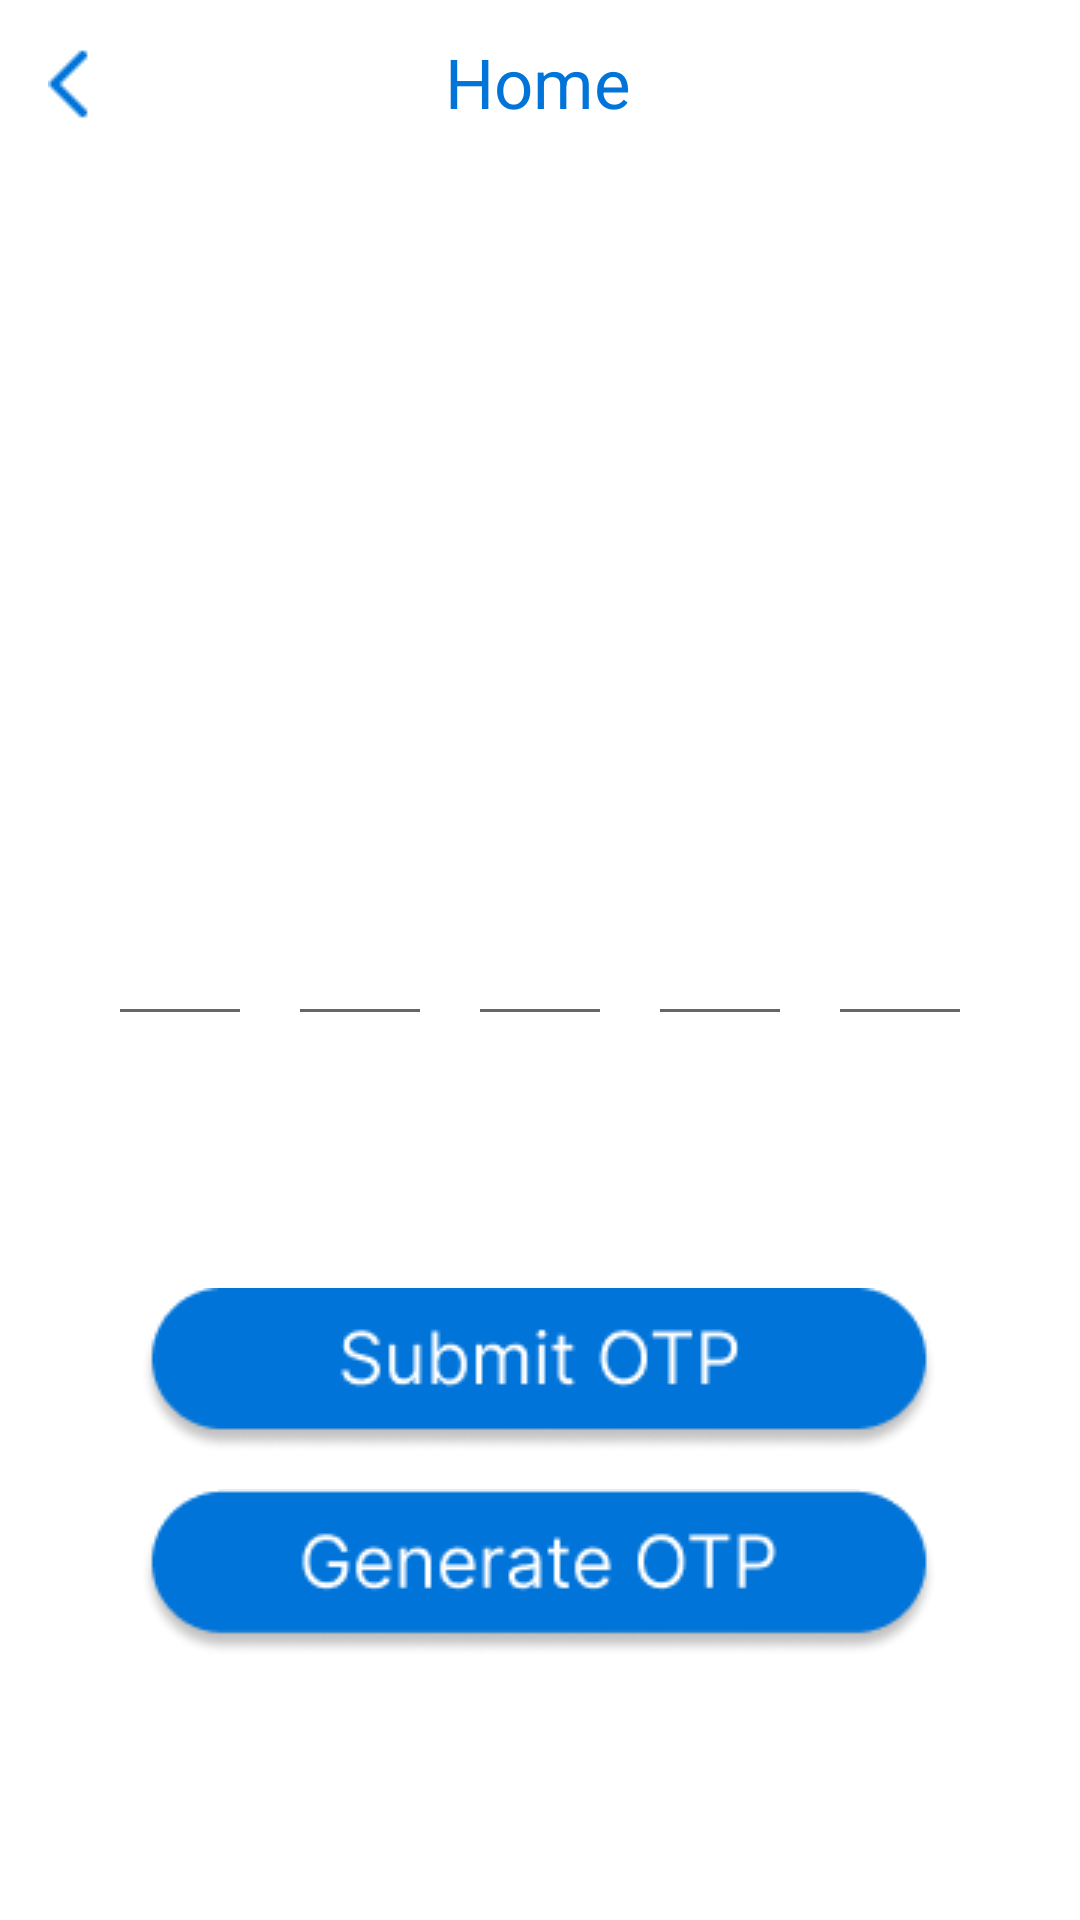

Screen size 1080*1920. Icon name, then its box in pixels as (x1, y1, x2, y2):
back arrow: (48, 50, 88, 118)
